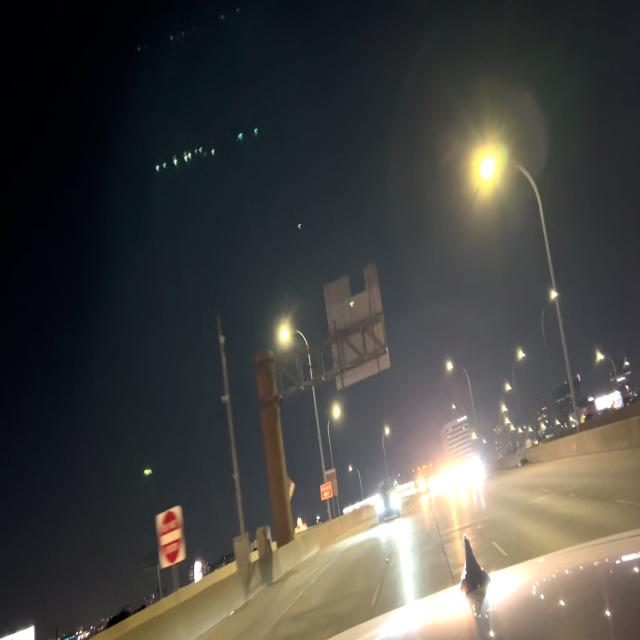back-of-sign: (321, 261, 392, 398)
